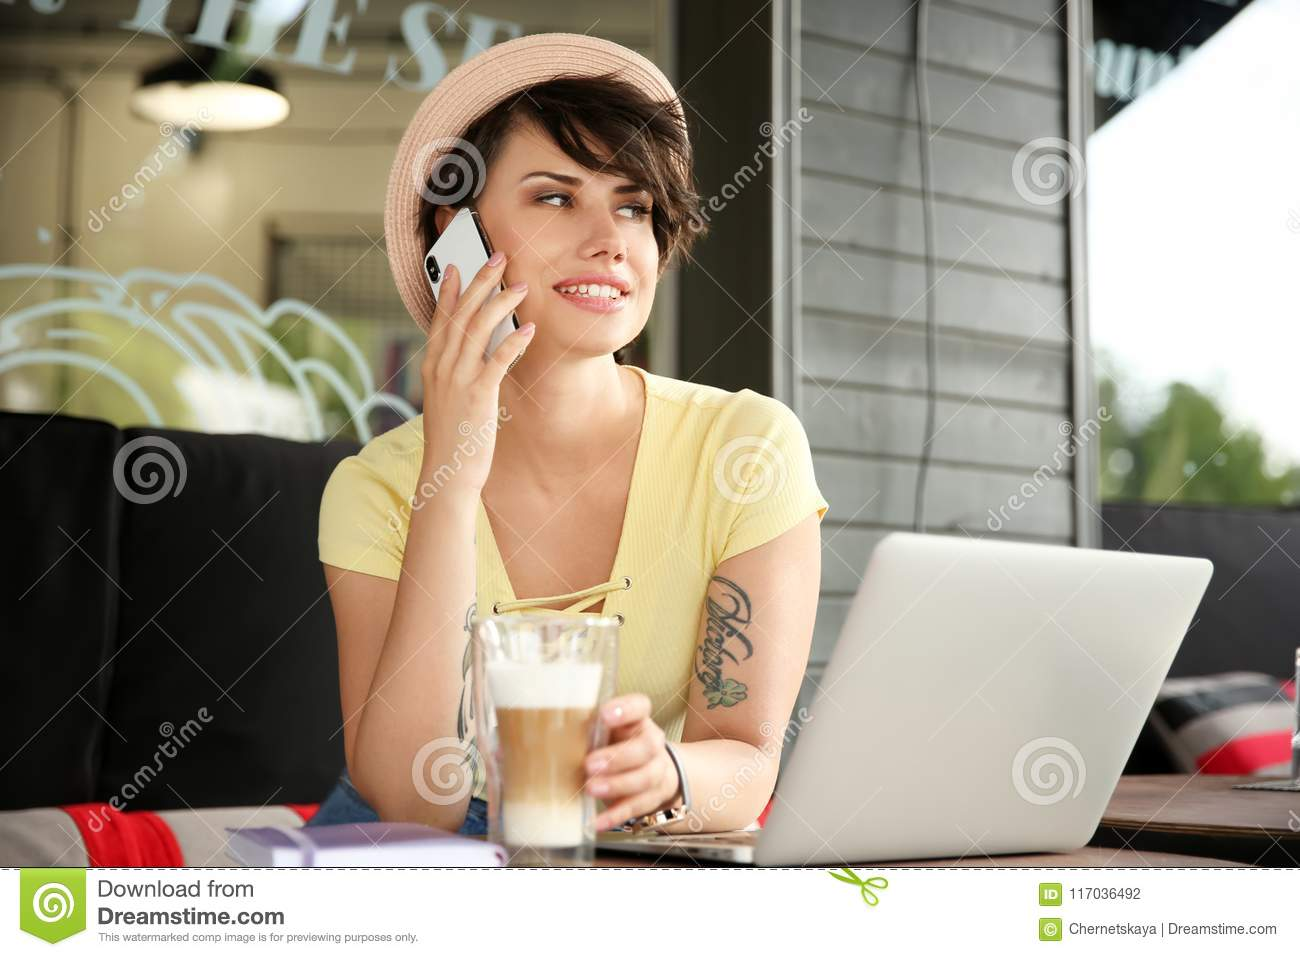phone: (423, 206, 526, 389)
talk: (420, 164, 661, 488)
